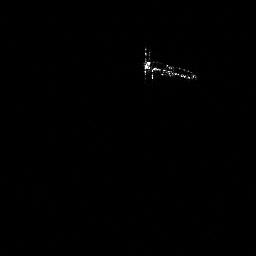ship: (138, 43, 201, 85)
